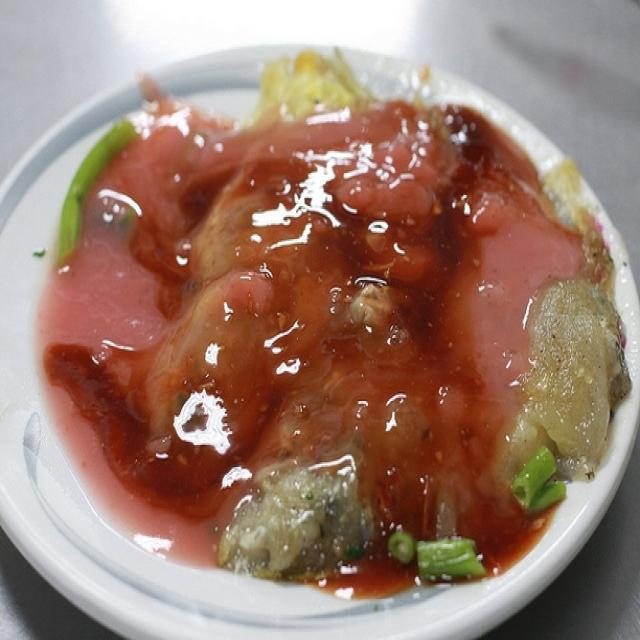熟制海鲜: (16, 25, 630, 618)
